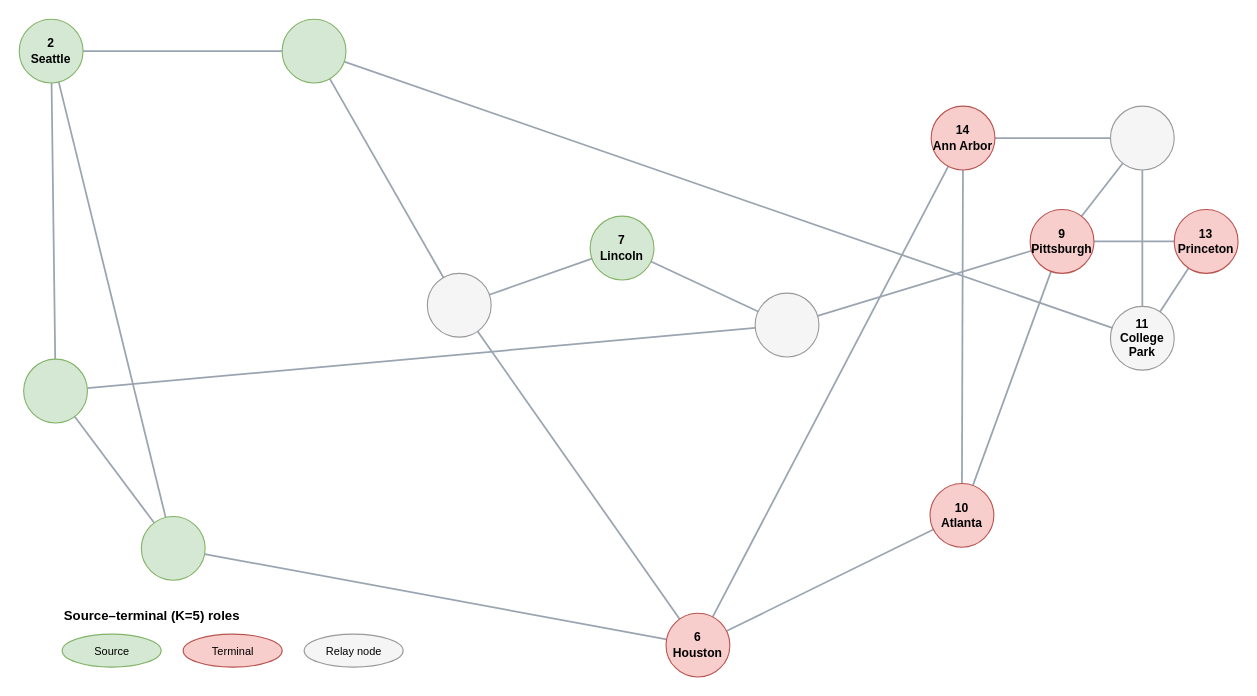
This 1257x696 diagram has some shape labels left out. The shapes that lost their labels are listed below. From the top down, each one's centre as x and y in pixels, then its label:
pixel 313 50: 4 Salt Lake City
pixel 1141 137: 12 Ithaca
pixel 458 304: 5 Boulder
pixel 786 324: 8 Champaign
pixel 55 390: 1 Palo Alto
pixel 172 547: 3 San Diego
